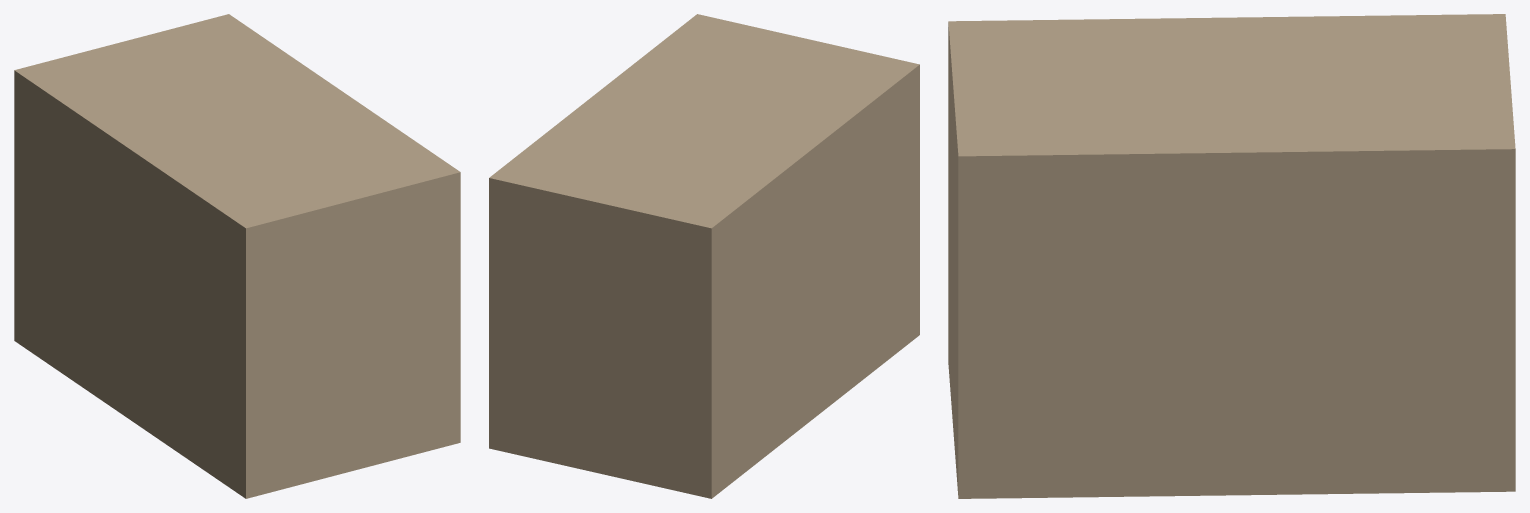
Rendered from bld_106466806.dae.
3 views of the same model, side by side, from view 1: azimuth 30°, elevation 25°; view 2: azimuth 150°, elevation 25°; view 3: azimuth 270°, elevation 25° (orthographic). The views are drawn at different scales.
Visible parts, largest first — view 1: bld_106466806; view 2: bld_106466806; view 3: bld_106466806.
Part boxes in pixels (x1,y1,x2,y2): bld_106466806: (14, 14, 460, 498); bld_106466806: (489, 14, 919, 498); bld_106466806: (948, 14, 1515, 498).
Size of the model in its own units: 7.13 by 12 by 8.
